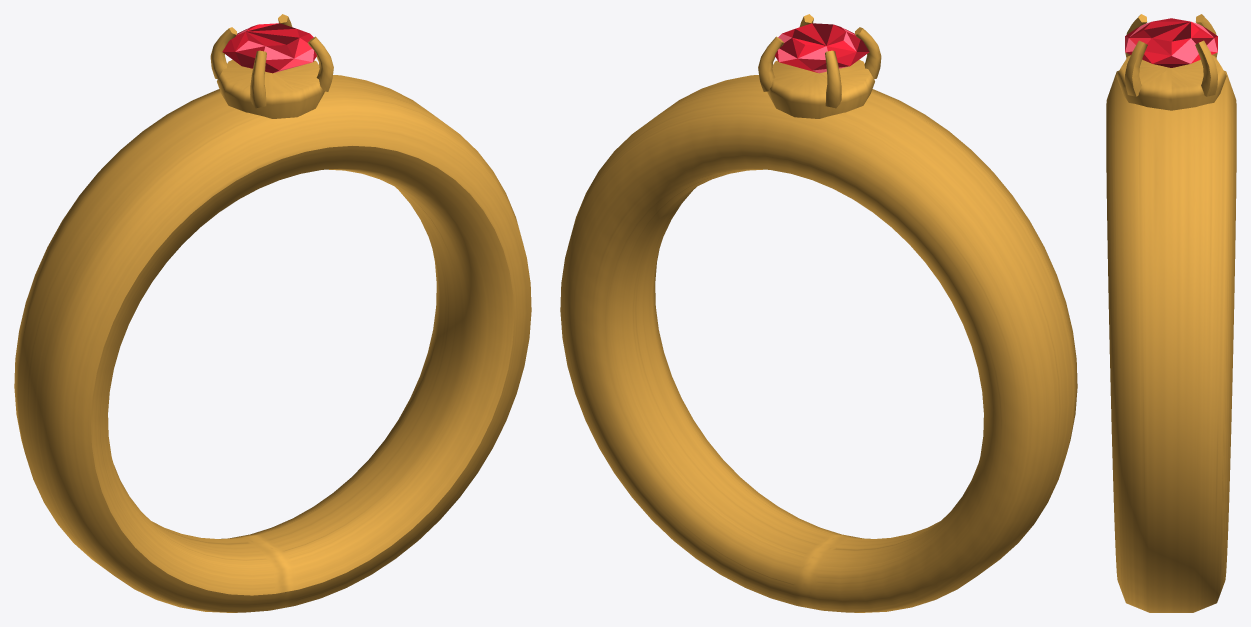
Rendered from Ring.glb.
3 renders of one model, left to right at view 1: azimuth 30°, elevation 25°; view 2: azimuth 150°, elevation 25°; view 3: azimuth 270°, elevation 25°, orthographic.
Visible parts, largest first — view 1: Ring; view 2: Ring; view 3: Ring.
Part boxes in pixels (bbox=[...]): Ring: bbox=[14, 14, 531, 612]; Ring: bbox=[560, 14, 1077, 612]; Ring: bbox=[1106, 14, 1236, 612].
Bounding box in the file's own units: 0.5513 × 0.6136 × 0.13.
1 material, 1 textured.
